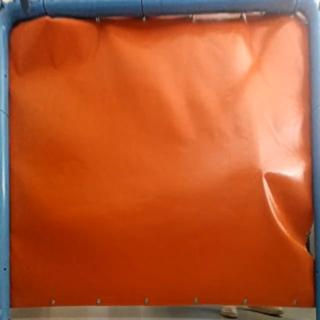Hit-hRxx: (257, 168, 273, 180)
